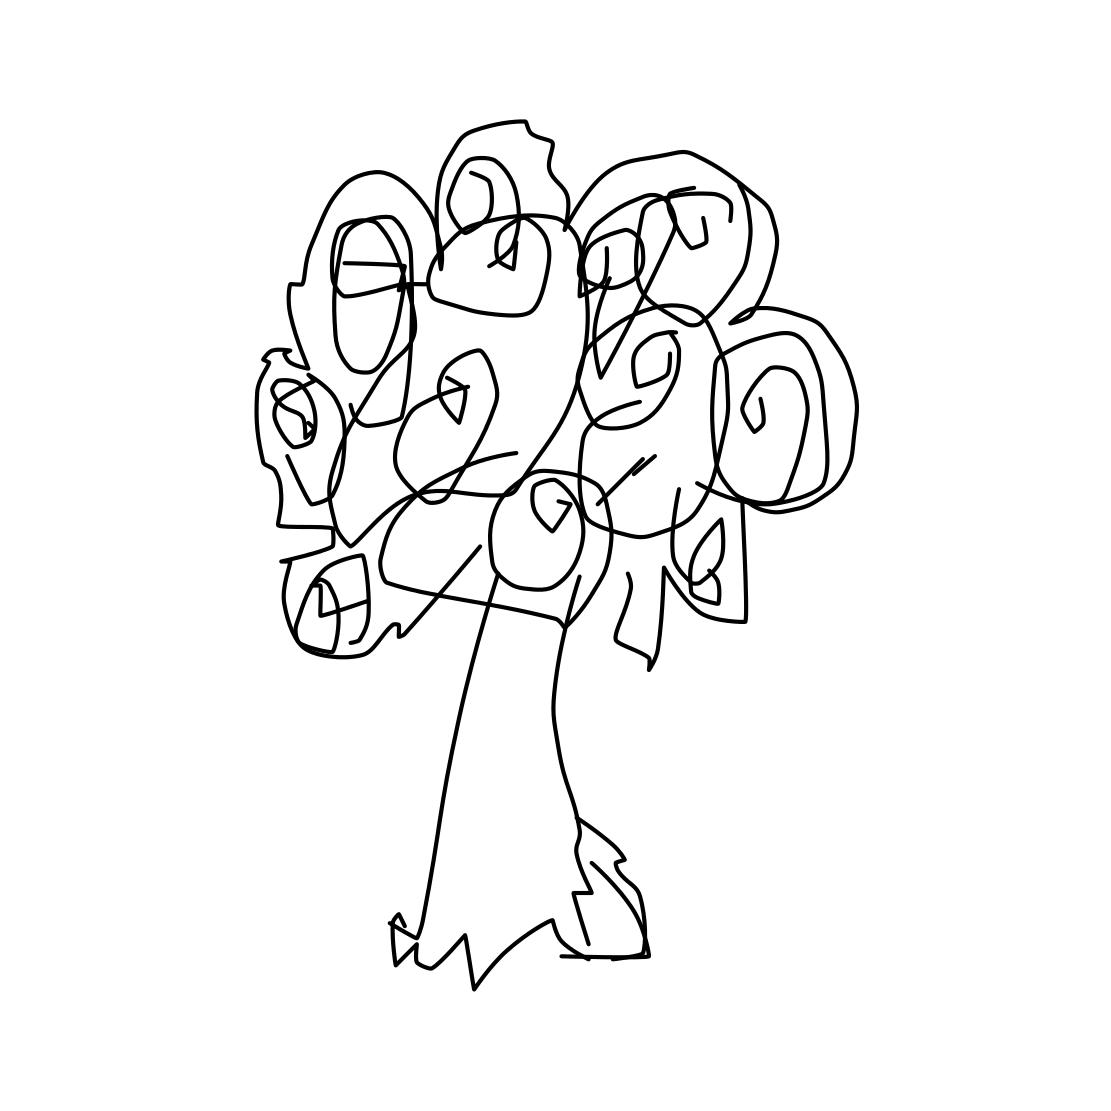Tree: (222, 78, 862, 998)
